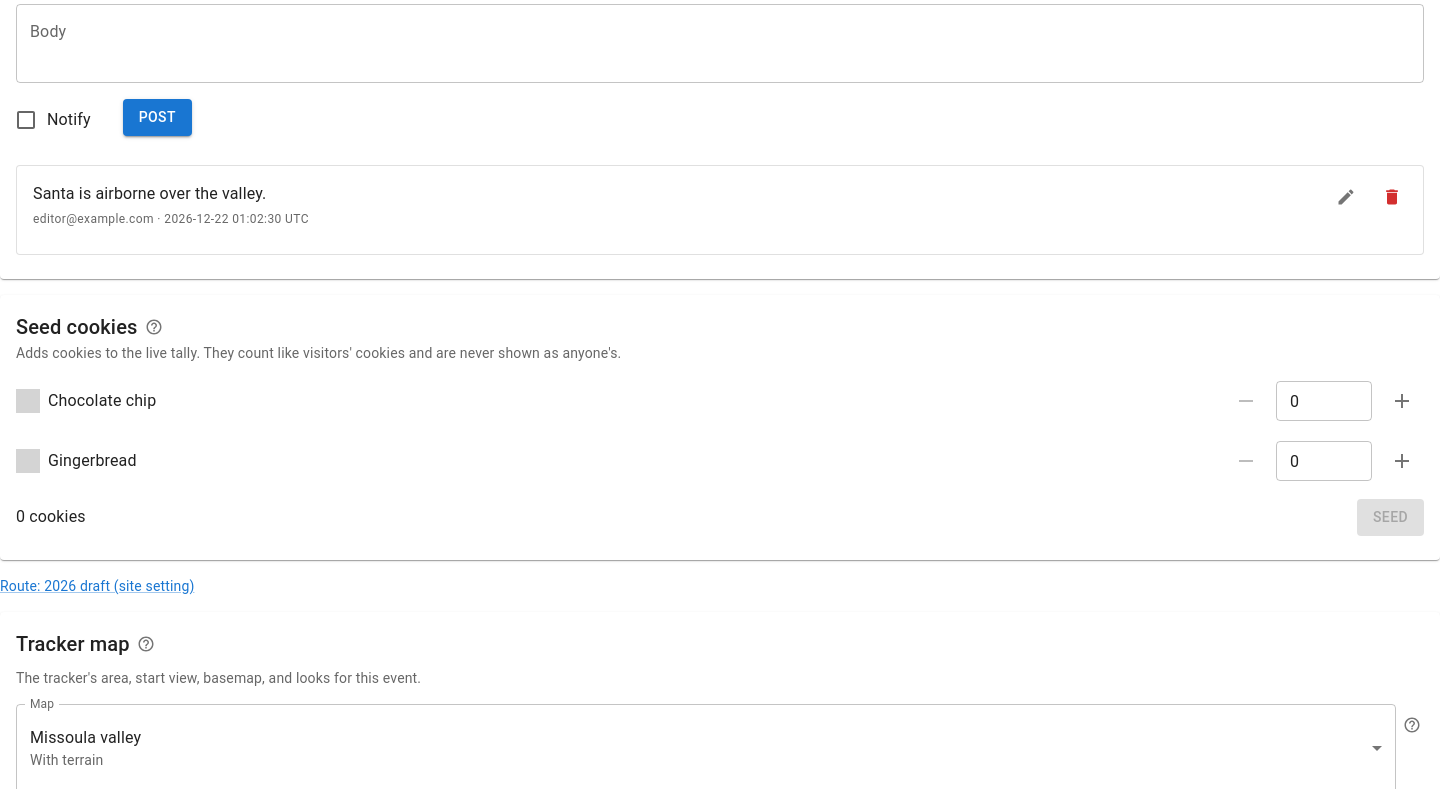
Test: SeedCookiesSection: seeding › 409 event_not_live shows the message and refetches the event
The image size is (1440, 789).
(page scrolled)
What coordinates should you click on to do the following:
click the button named "One more Chocolate chip"
I would click on:
 (1402, 401)
Its box is top-left (1380, 379), bottom-right (1424, 423).
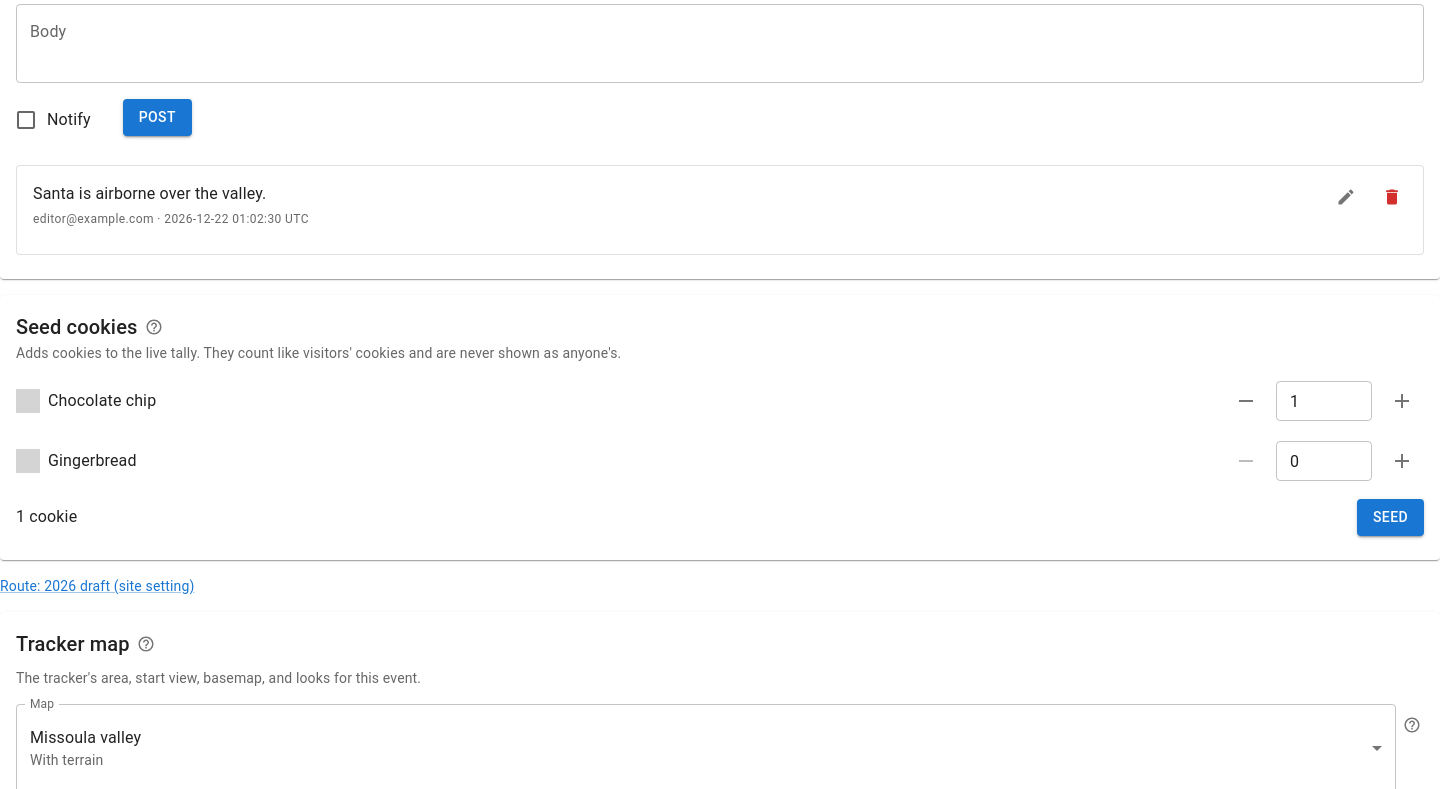
What coordinates should you click on to do the following:
click the button "Seed"
I would click on:
 (1390, 517)
Its box is top-left (1357, 499), bottom-right (1424, 536).
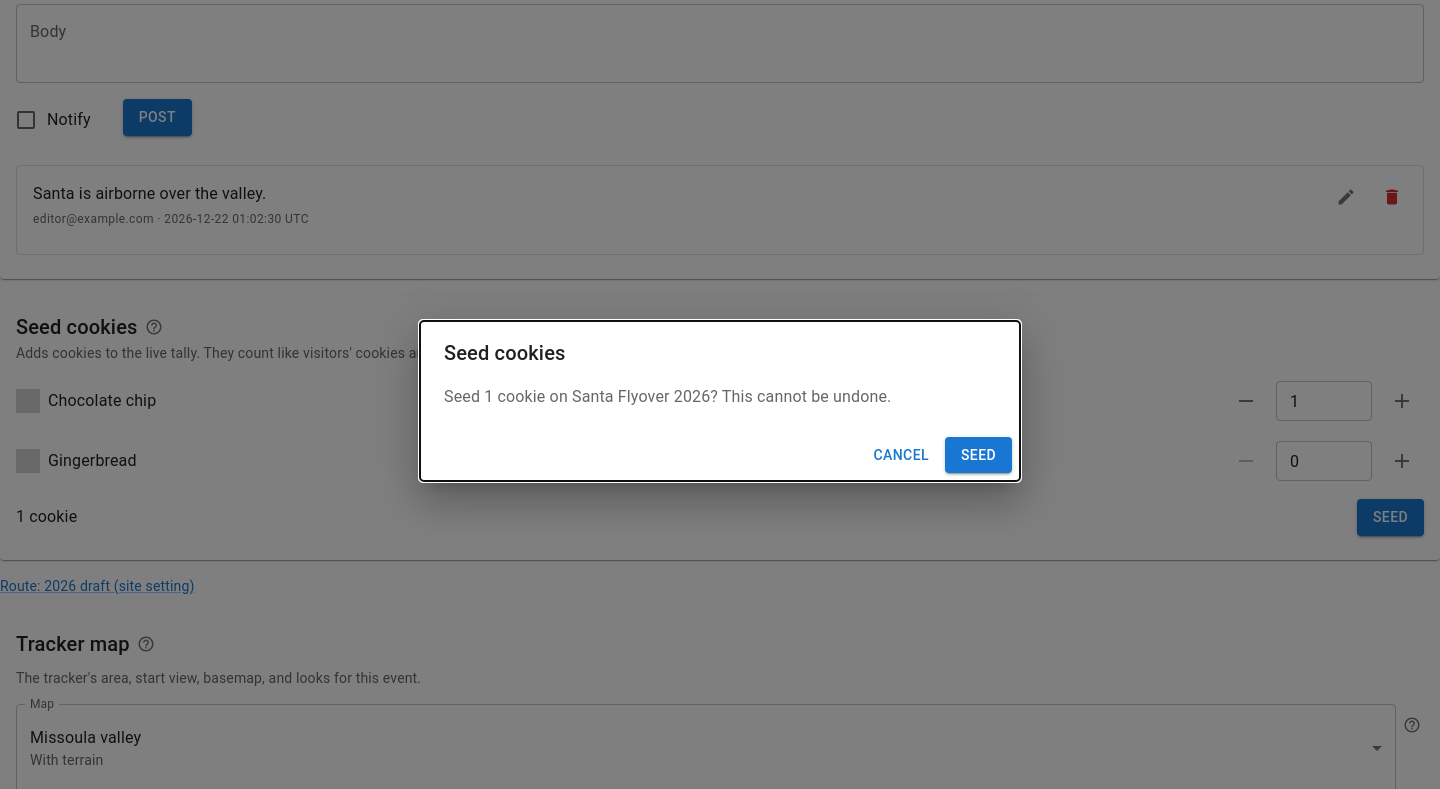
What coordinates should you click on to do the following:
click the button "Seed"
I would click on:
 (978, 455)
Its box is top-left (945, 437), bottom-right (1012, 473).
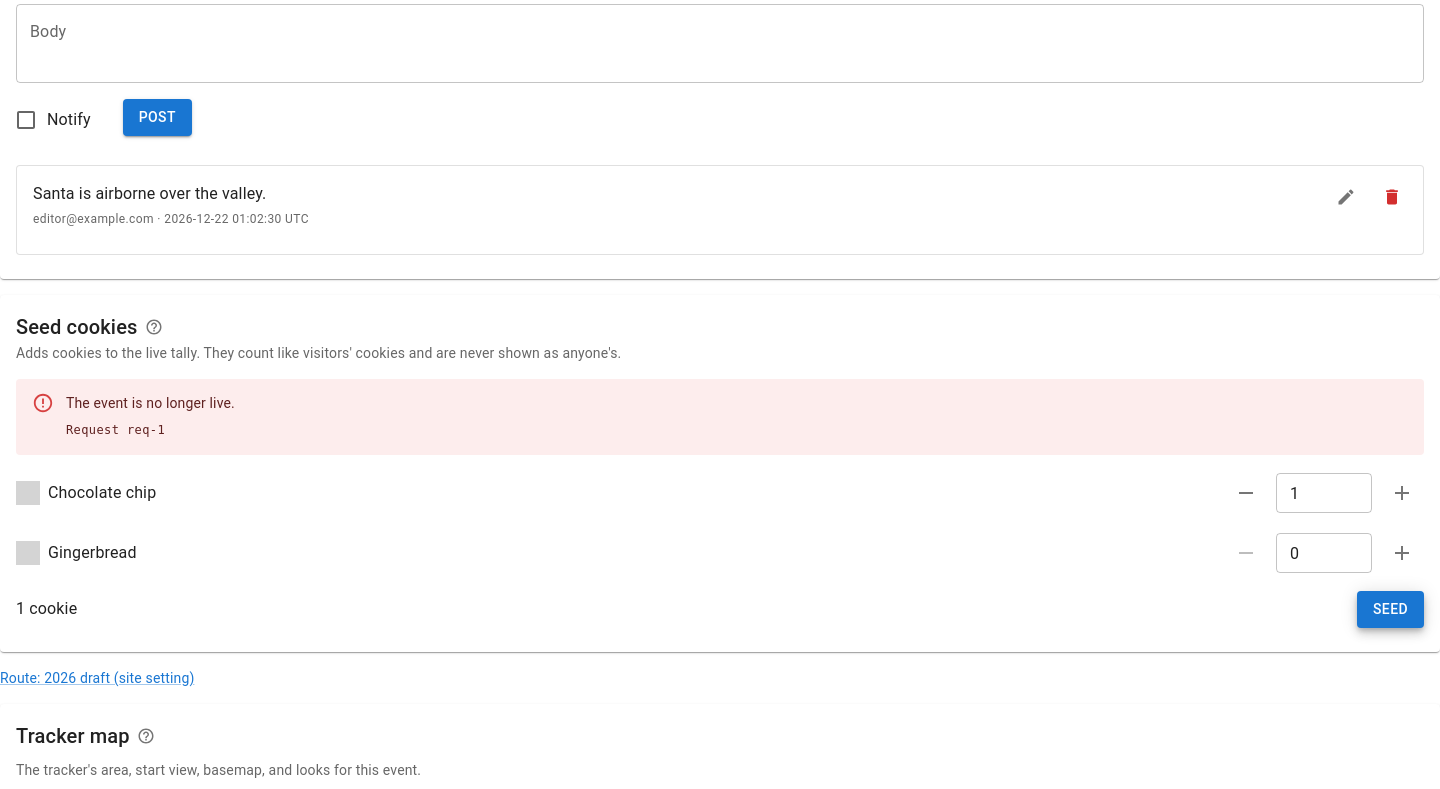
Check: the text "The event is no longer live." is shown, box top-left (66, 393), bottom-right (235, 413)
